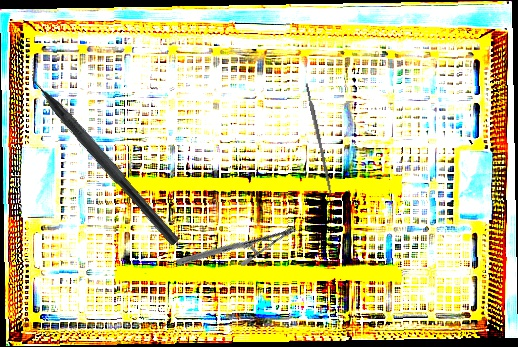Chopper: (15, 55, 193, 247)
Needle Holder: (175, 185, 297, 307)
Scalpel Handle: (304, 81, 334, 196)
